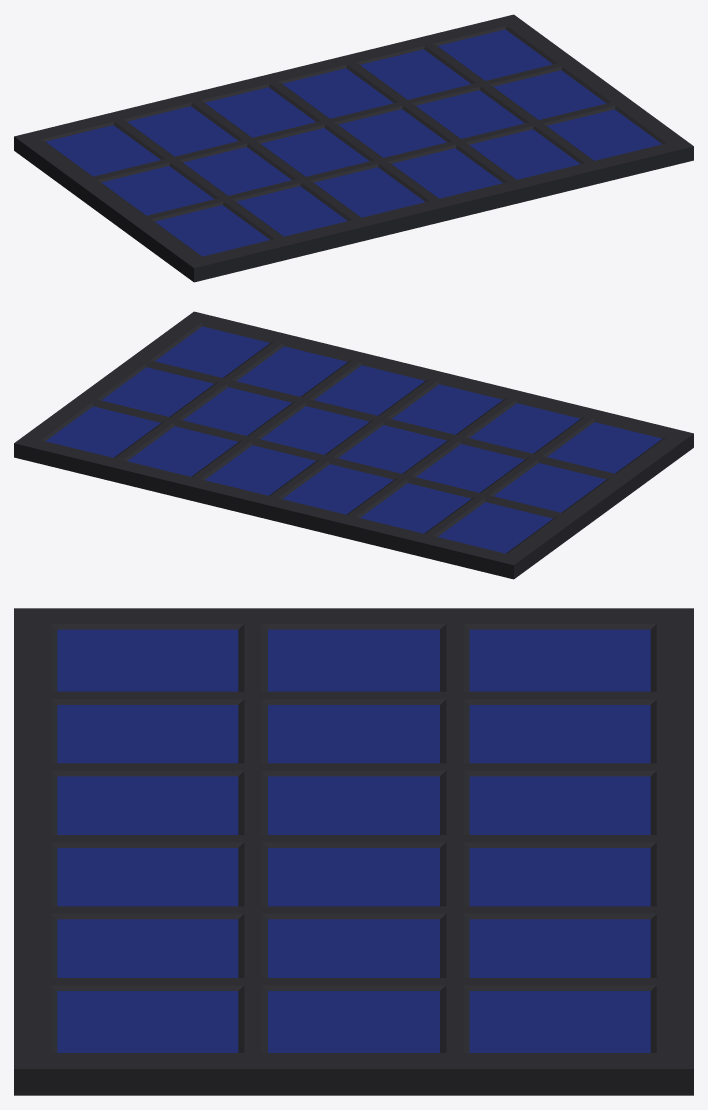
Rendered from LPWarPack_SolarPanel1.fbx.
The picture shows the model from 3 angles, top to bottom: view 1: azimuth 30°, elevation 25°; view 2: azimuth 150°, elevation 25°; view 3: azimuth 270°, elevation 25°; orthographic projection. The views are drawn at different scales.
Parts seen in each view (by area): view 1: SolarPanel1; view 2: SolarPanel1; view 3: SolarPanel1.
Part boxes in pixels (x1,y1,x2,y2): SolarPanel1: (14,14,693,282); SolarPanel1: (14,311,693,579); SolarPanel1: (14,608,693,1095).
Size of the model in its own units: 161 by 4.37 by 100.
